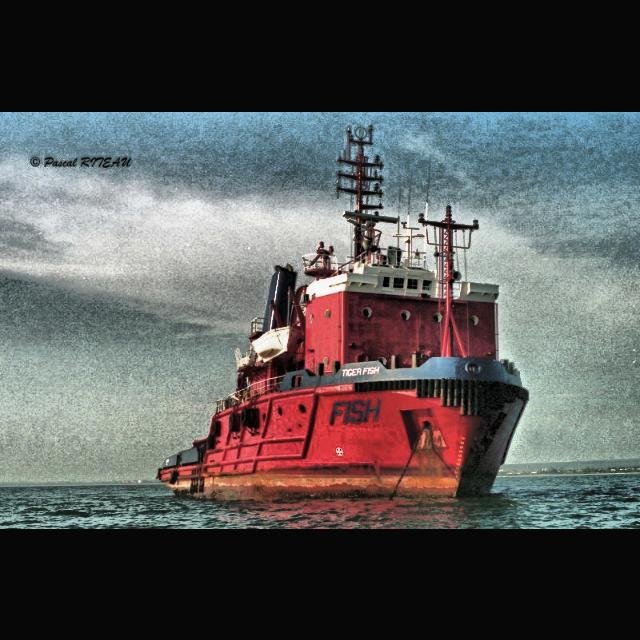anchor_handling_tug_supply: (156, 191, 534, 503)
